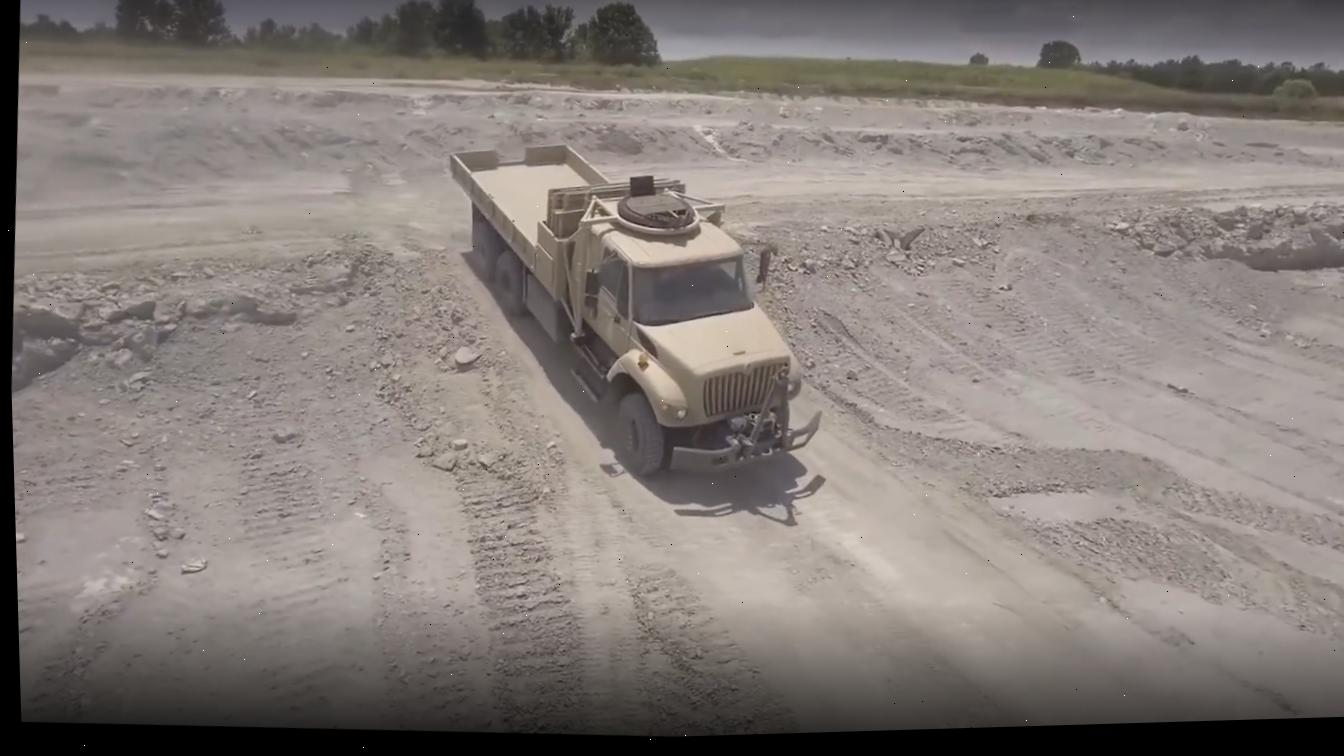truck: (424, 125, 842, 493)
